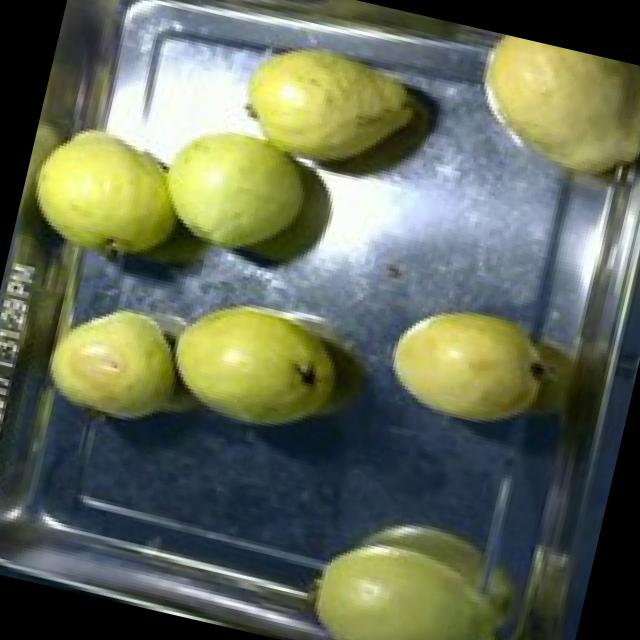Fruit: (212, 8, 447, 206), (288, 485, 571, 640), (138, 92, 356, 281), (147, 274, 360, 453), (11, 101, 216, 276), (442, 27, 640, 205), (369, 282, 563, 445), (33, 281, 200, 440)
